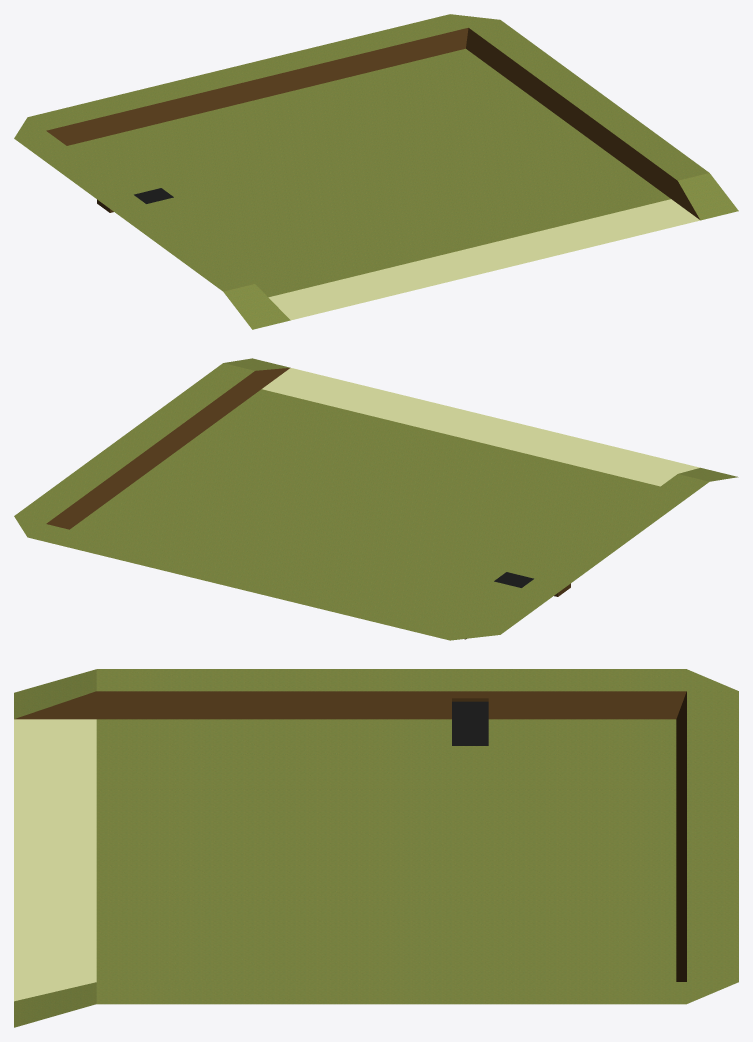
The model's file is island-test.glb.
3 renders of one model, top to bottom at view 1: azimuth 30°, elevation 25°; view 2: azimuth 150°, elevation 25°; view 3: azimuth 270°, elevation 25°, orthographic. The views are drawn at different scales.
Visible parts, largest first — view 1: island-test-col; view 2: island-test-col; view 3: island-test-col.
Boxes of the visible parts, x1,y1,x2,y2 form: island-test-col: (14, 14, 738, 329); island-test-col: (14, 358, 738, 640); island-test-col: (14, 669, 738, 1027).
Size of the model in its own units: 152 by 5 by 139.
4 materials, 1 textured.
